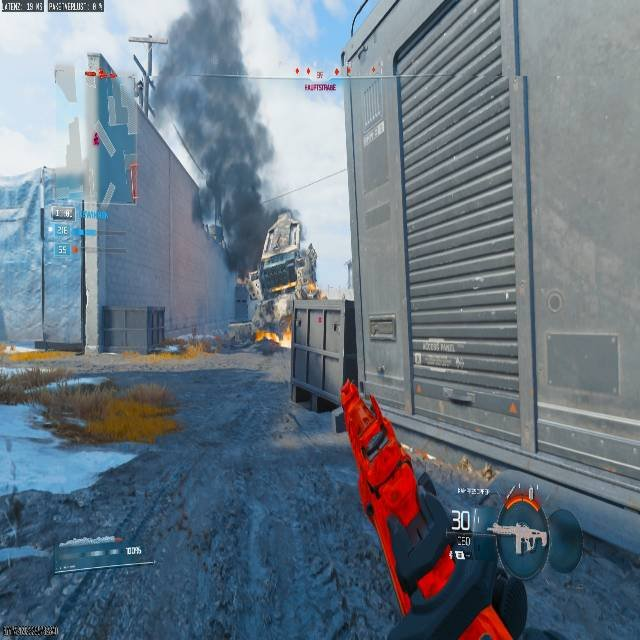head: (272, 208, 297, 232)
player: (251, 208, 322, 348)
